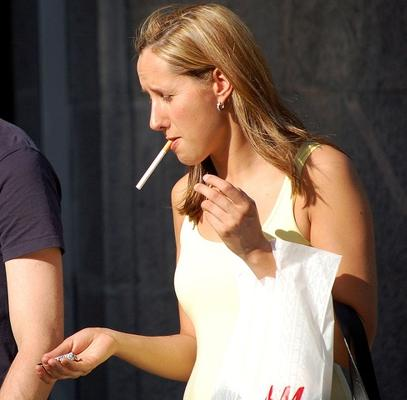person: (36, 6, 378, 400)
